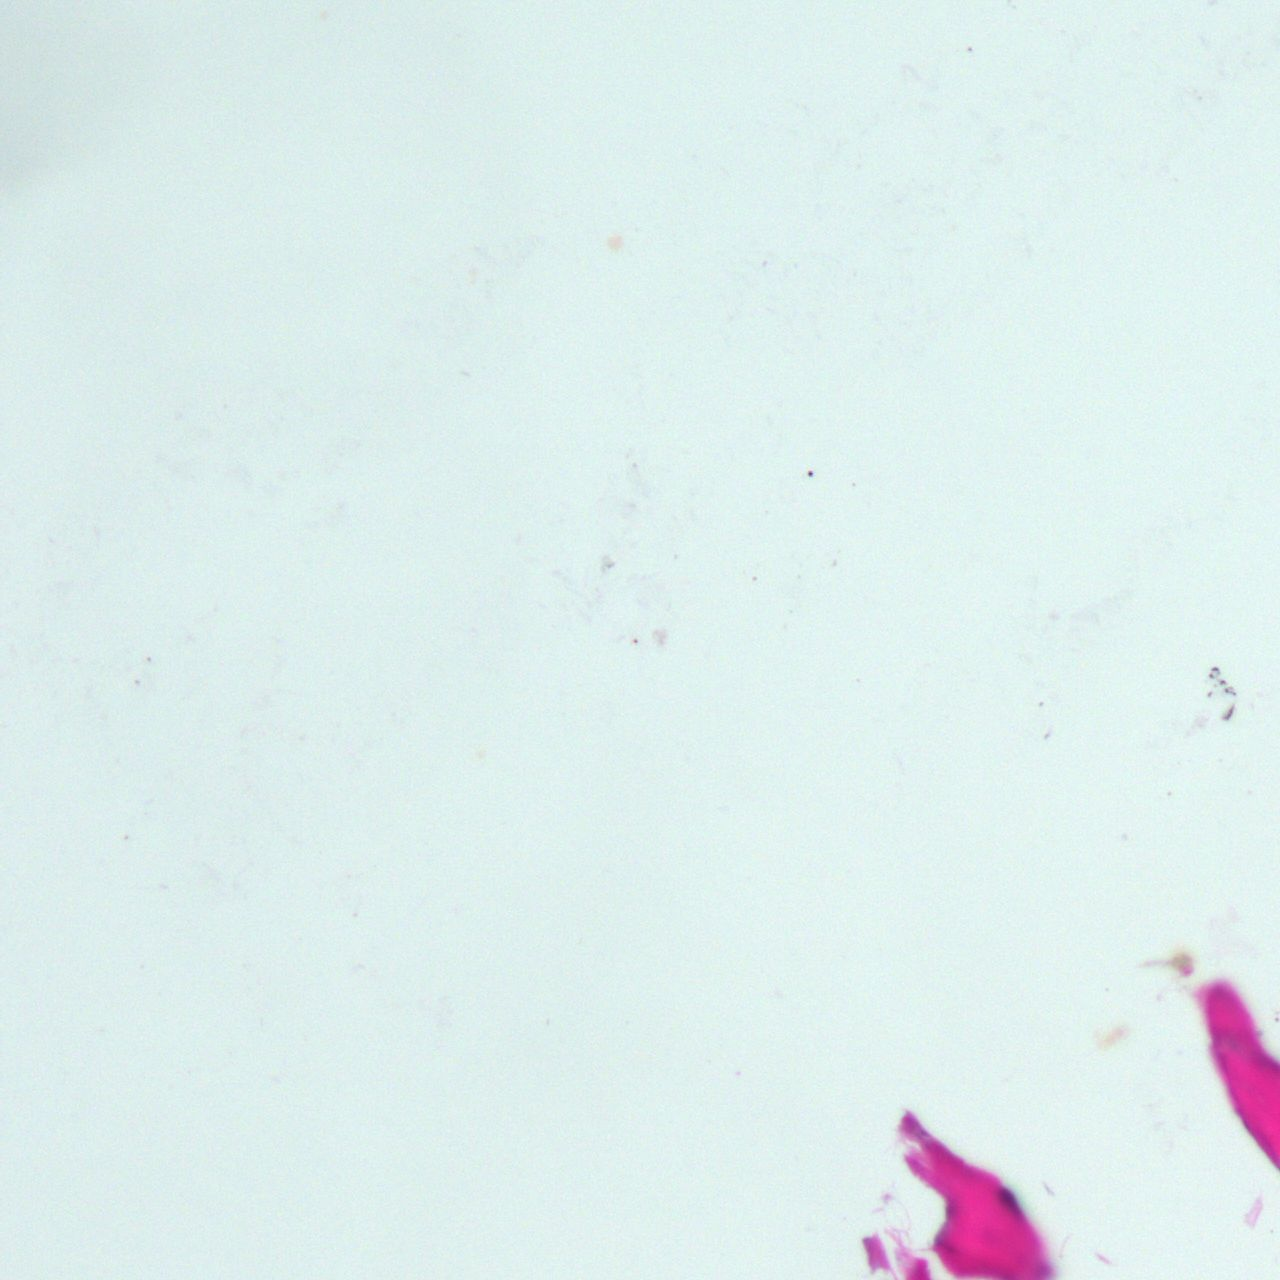dust: (1099, 1022, 1126, 1050), (1172, 954, 1193, 975), (472, 743, 486, 761), (607, 233, 621, 248)
